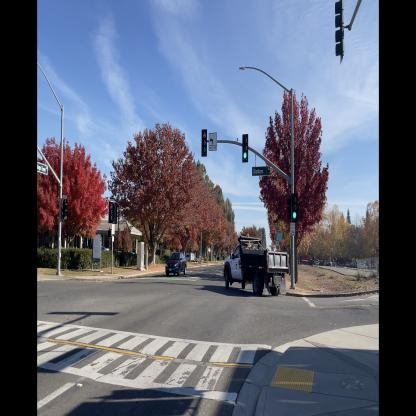green: (290, 192, 299, 225), (241, 132, 250, 164)
left-red: (201, 128, 208, 158), (108, 200, 114, 225)
red: (62, 193, 68, 221)
